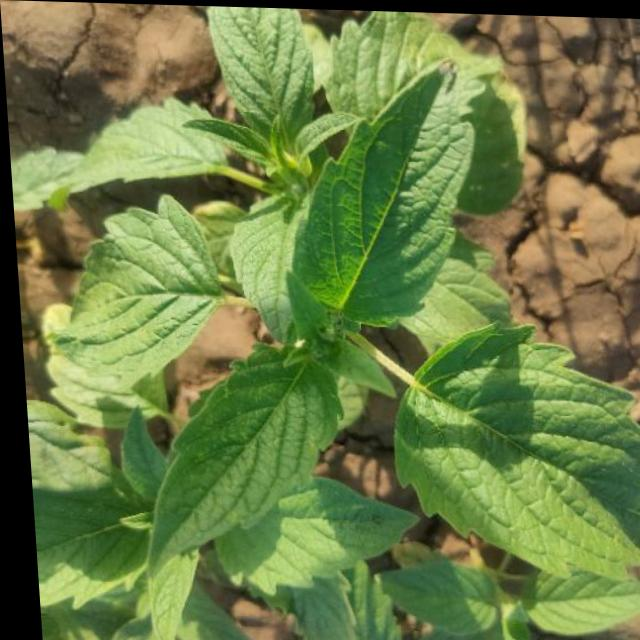crop: (2, 24, 640, 640)
